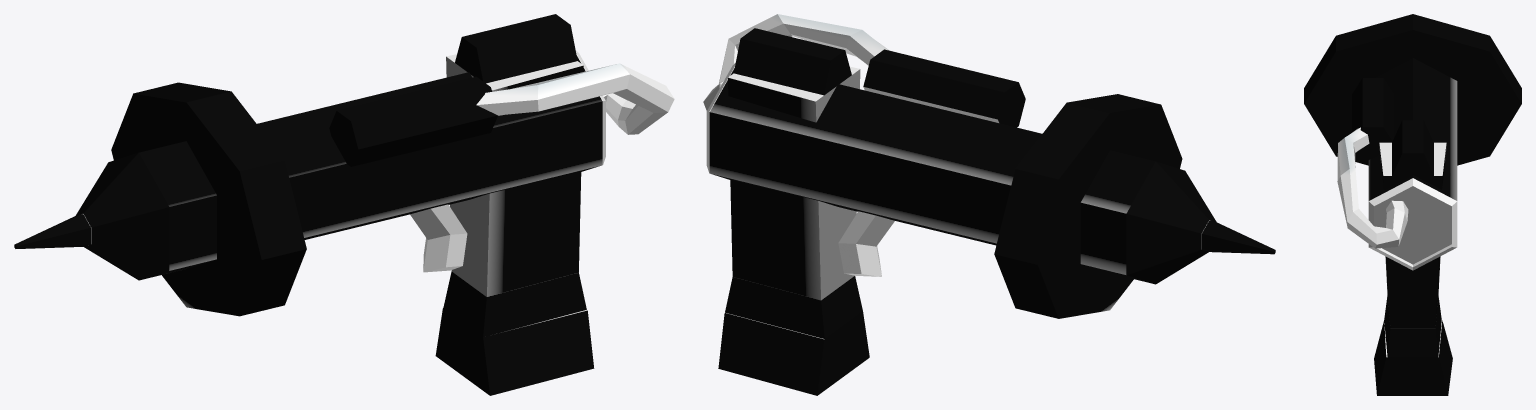
The model's file is Lanzallamas.fbx.
3 renders of one model, left to right at view 1: azimuth 30°, elevation 25°; view 2: azimuth 150°, elevation 25°; view 3: azimuth 270°, elevation 25°, orthographic. The views are drawn at different scales.
Visible parts, largest first — view 1: Cube.001; view 2: Cube.001; view 3: Cube.001.
Boxes of the visible parts, x1,y1,x2,y2 form: Cube.001: [14, 14, 674, 395]; Cube.001: [703, 14, 1275, 395]; Cube.001: [1304, 14, 1521, 395].
Size of the model in its own units: 135 by 71.62 by 57.27.
